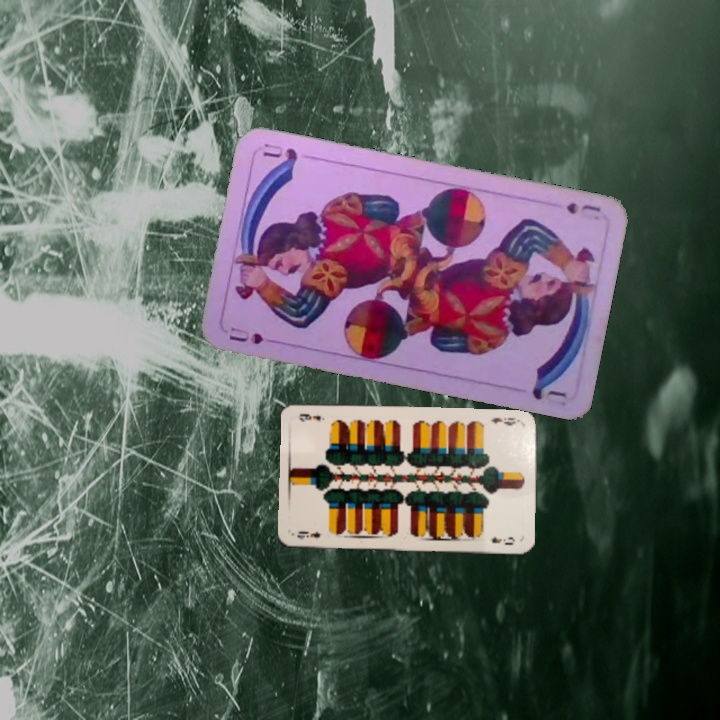E9: (487, 413, 522, 428), (293, 527, 323, 542)
SU: (225, 323, 282, 347), (562, 198, 604, 217)
